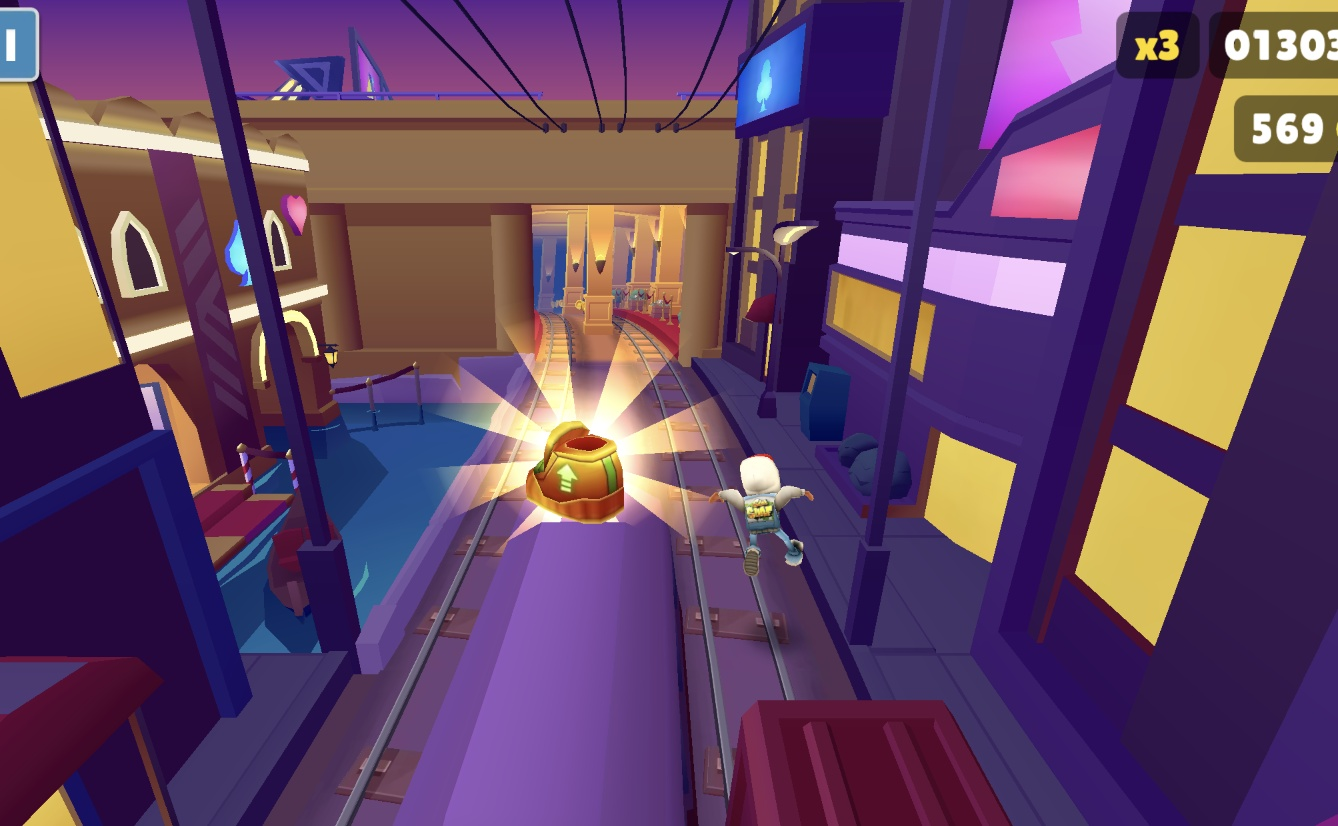pillar: (574, 195, 607, 327)
train: (347, 344, 731, 826), (716, 699, 1041, 826)
